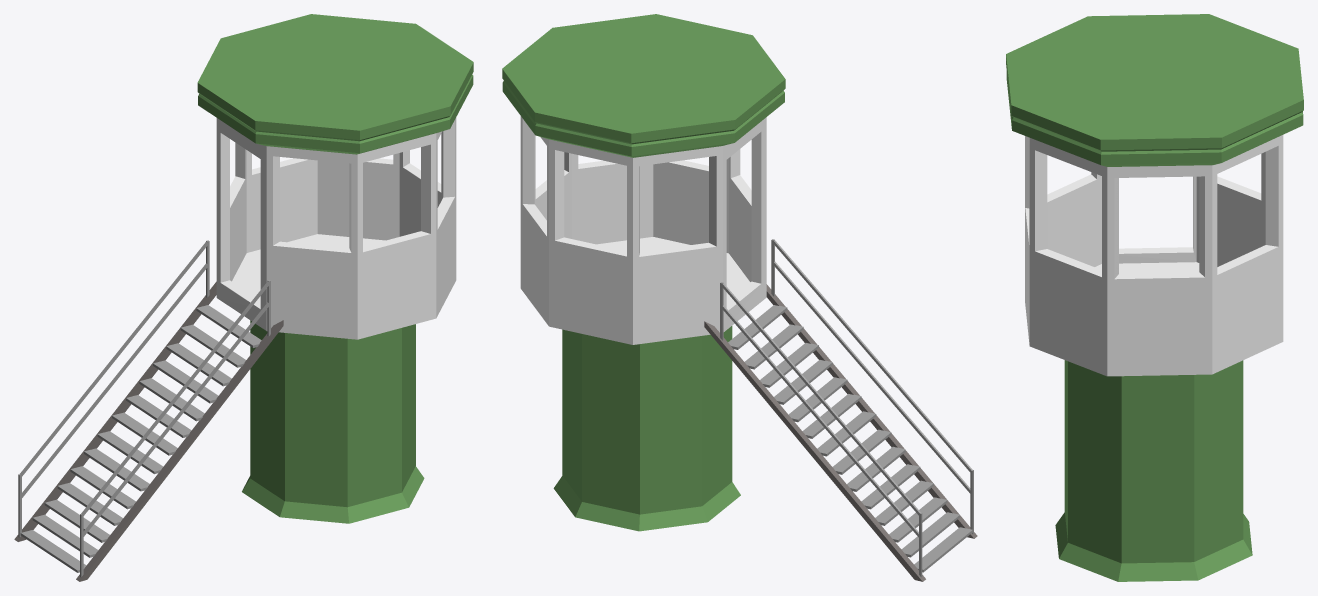
The model's file is SM_Towerprison_01.FBX.
3 renders of one model, left to right at view 1: azimuth 30°, elevation 25°; view 2: azimuth 150°, elevation 25°; view 3: azimuth 270°, elevation 25°, orthographic. The views are drawn at different scales.
Parts seen in each view (by area): view 1: SM_Towerprison_01; view 2: SM_Towerprison_01; view 3: SM_Towerprison_01.
Boxes of the visible parts, x1,y1,x2,y2 form: SM_Towerprison_01: [14, 14, 473, 581]; SM_Towerprison_01: [502, 14, 977, 581]; SM_Towerprison_01: [1006, 14, 1303, 581].
Bounding box in the file's own units: 644 × 356 × 614.
